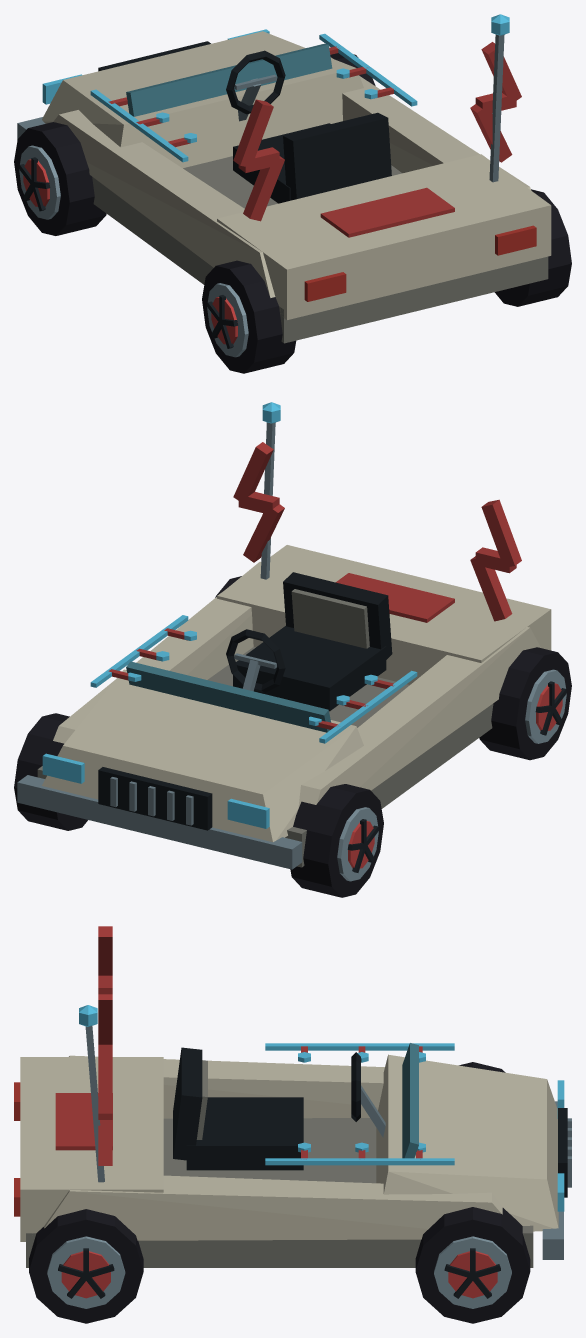
The model's file is kart.glb.
The picture shows the model from 3 angles, top to bottom: view 1: azimuth 30°, elevation 25°; view 2: azimuth 150°, elevation 25°; view 3: azimuth 270°, elevation 25°; orthographic projection. The views are drawn at different scales.
Visible parts, largest first — view 1: identity-sedan-sedan-road-car-body, identity-sedan-driver-cockpit, wheel-front-left, wheel-rear-left, identity-sedan-motif-electric, identity-sedan-motif-circuit, wheel-rear-right, identity-sedan-motif-antenna; view 2: identity-sedan-sedan-road-car-body, identity-sedan-driver-cockpit, wheel-front-left, wheel-rear-left, identity-sedan-motif-electric, identity-sedan-motif-circuit, wheel-front-right, identity-sedan-motif-antenna; view 3: identity-sedan-sedan-road-car-body, identity-sedan-driver-cockpit, wheel-front-right, wheel-rear-right, identity-sedan-motif-circuit, identity-sedan-motif-electric, identity-sedan-motif-antenna.
Boxes of the visible parts, x1,y1,x2,y2 form: identity-sedan-sedan-road-car-body: (17,29,551,343); identity-sedan-driver-cockpit: (226,50,391,203); wheel-front-left: (14,122,106,235); wheel-rear-left: (202,260,296,373); identity-sedan-motif-electric: (233,42,521,221); identity-sedan-motif-circuit: (90,33,417,162); wheel-rear-right: (494,189,571,306); identity-sedan-motif-antenna: (489,14,509,182); identity-sedan-sedan-road-car-body: (17,545,551,869); identity-sedan-driver-cockpit: (226,572,392,711); wheel-front-left: (290,784,383,897); wheel-rear-left: (479,647,571,760); identity-sedan-motif-electric: (233,442,521,621); identity-sedan-motif-circuit: (90,615,417,743); wheel-front-right: (14,713,87,830); identity-sedan-motif-antenna: (260,402,280,579); identity-sedan-sedan-road-car-body: (14,1043,571,1267); identity-sedan-driver-cockpit: (173,1047,385,1170); wheel-front-right: (415,1207,530,1323); wheel-rear-right: (29,1209,143,1323); identity-sedan-motif-circuit: (265,1043,454,1165); identity-sedan-motif-electric: (98,926,112,1165); identity-sedan-motif-antenna: (79,1005,104,1182).
Size of the model in its own units: 2.07 by 1.72 by 2.92.
